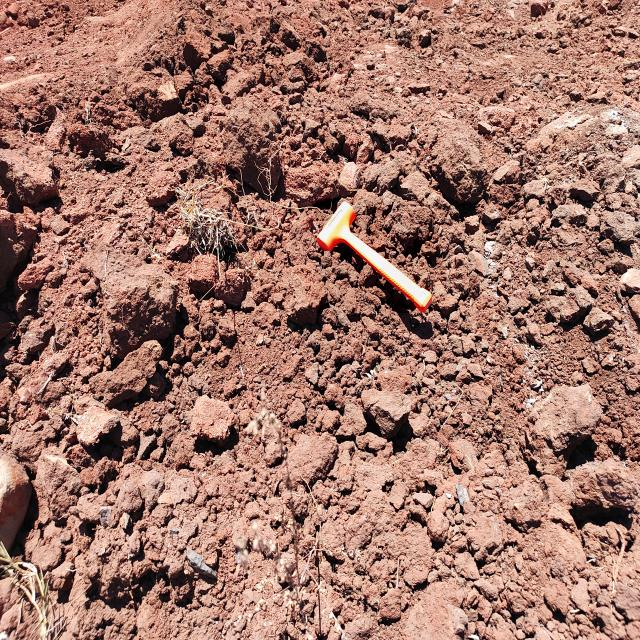Orange_hammer: (316, 198, 432, 313)
